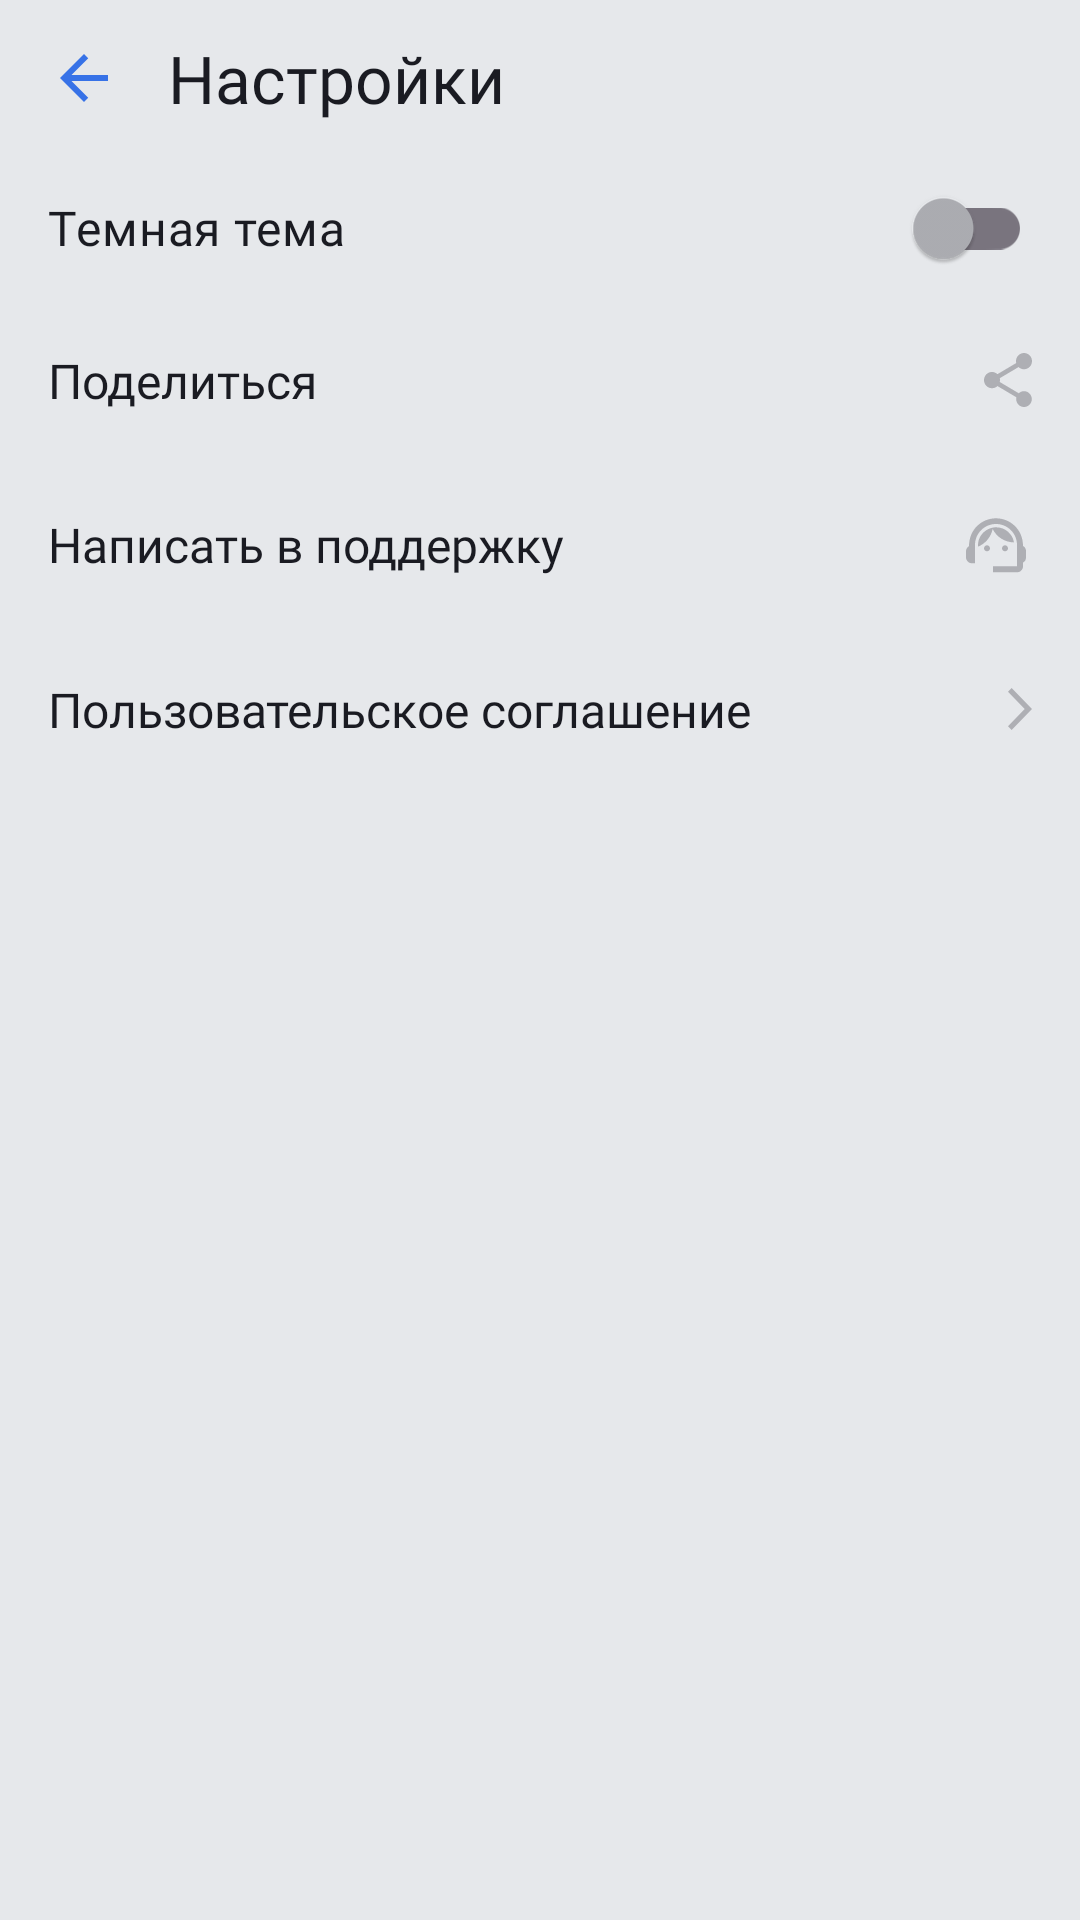

Icon bounding boxes for this 1080 x 1920 phone screenshot, format region(x1, y1, x2, y2):
Назад: region(60, 54, 108, 102)
Написать в поддержку: region(966, 518, 1026, 572)
Поделиться: region(984, 353, 1032, 407)
